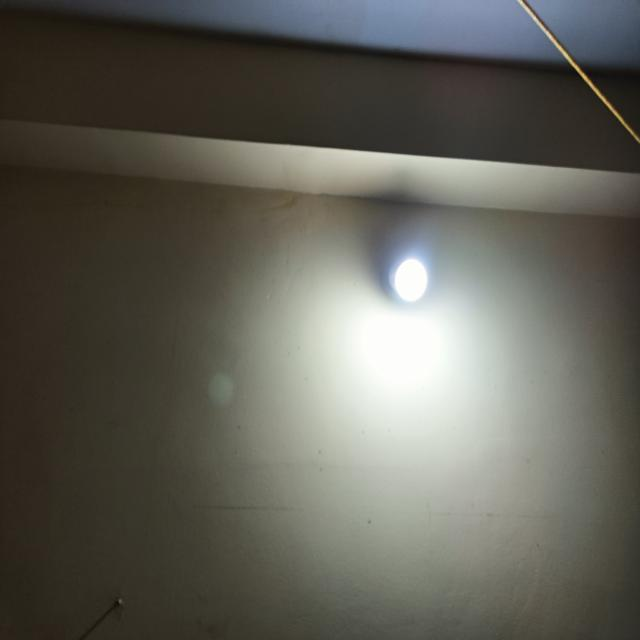bulb_on: (390, 255, 430, 305)
